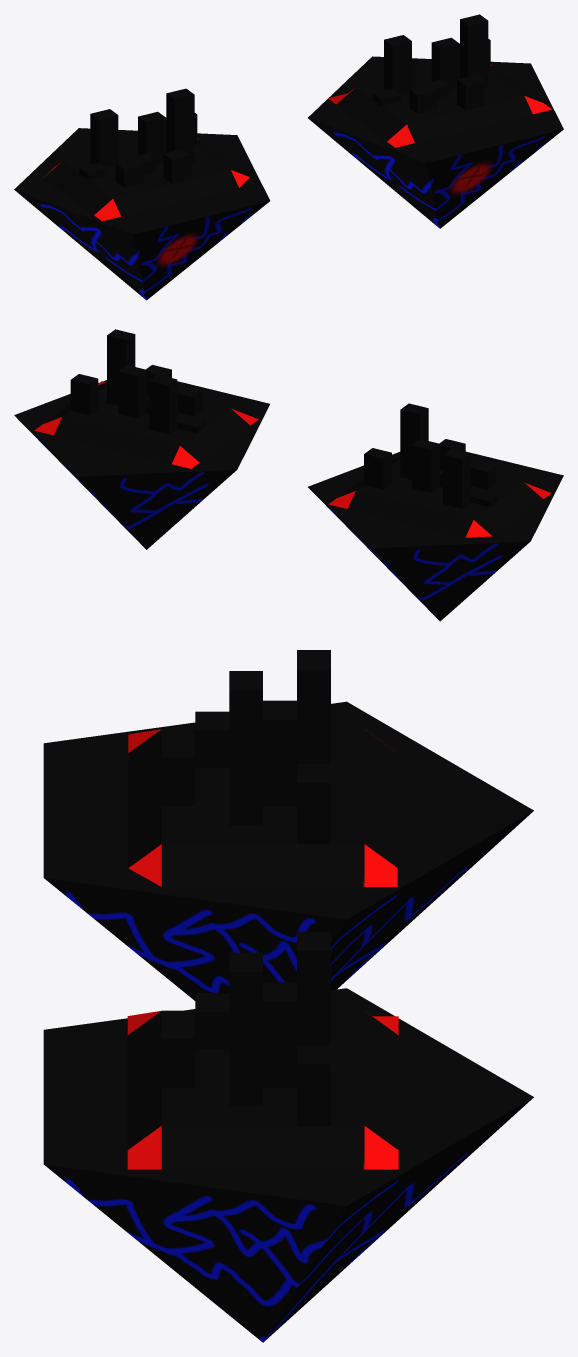
File: SheildMaker.fbx
3 views of the same model, one above another, from view 1: azimuth 30°, elevation 25°; view 2: azimuth 150°, elevation 25°; view 3: azimuth 270°, elevation 25° (orthographic). The views are drawn at different scales.
Visible parts, largest first — view 1: Cone, Cone.001, Cube.001; view 2: Cone, Cube.001, Cone.001; view 3: Cone, Cone.001, Cube.001.
Boxes of the visible parts, x1,y1,x2,y2 form: Cone: (14,88,270,300); Cone.001: (308,56,563,228); Cube.001: (328,14,552,147); Cone: (308,403,563,621); Cube.001: (34,329,258,468); Cone.001: (14,380,269,549); Cone: (43,650,533,1000); Cone.001: (43,988,533,1342); Cube.001: (127,931,398,1169).
Bounding box in the file's own units: 880 × 333 × 362.
